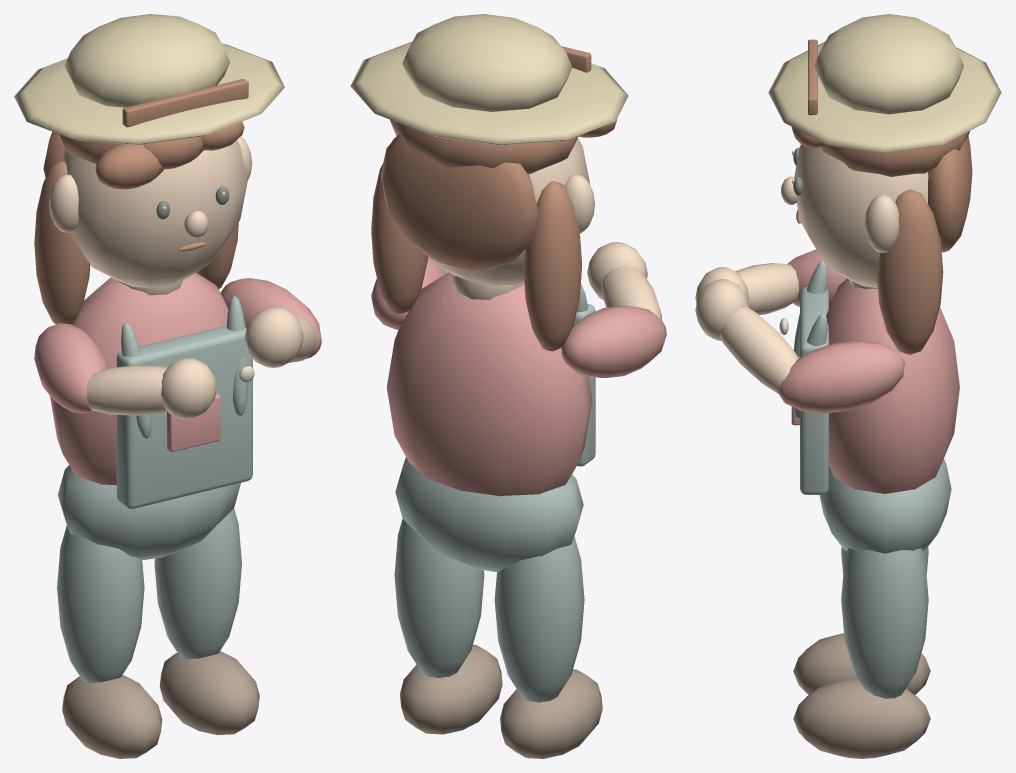
File: abbie-work.glb
3 renders of one model, left to right at view 1: azimuth 30°, elevation 25°; view 2: azimuth 150°, elevation 25°; view 3: azimuth 270°, elevation 25°, orthographic. The views are drawn at different scales.
Visible parts, largest first — view 1: Head.002, Overall bib.002, Padded shirt.002, Straw crown.002, Soft straw brim.002, Trouser leg.004, Soft trouser seat.002, Trouser leg.005, Rounded boot.005, Rounded boot.004, Long side lock.004, Shirt sleeve.004 (+17 smaller); view 2: Padded shirt.002, Hair back.002, Straw crown.002, Soft straw brim.002, Soft trouser seat.002, Trouser leg.004, Trouser leg.005, Long side lock.004, Rounded boot.004, Rounded boot.005, Shirt sleeve.004, Long side lock.005 (+8 smaller); view 3: Padded shirt.002, Straw crown.002, Trouser leg.005, Soft straw brim.002, Head.002, Long side lock.005, Rounded boot.005, Soft trouser seat.002, Shirt sleeve.005, Forearm.005, Overall bib.002, Hair back.002 (+10 smaller).
Part boxes in pixels (bbox=[...]): Head.002: bbox=[63, 140, 247, 288]; Overall bib.002: bbox=[116, 325, 252, 508]; Padded shirt.002: bbox=[50, 273, 228, 485]; Straw crown.002: bbox=[64, 14, 229, 107]; Soft straw brim.002: bbox=[14, 43, 284, 144]; Trouser leg.004: bbox=[57, 525, 144, 683]; Soft trouser seat.002: bbox=[58, 465, 240, 559]; Trouser leg.005: bbox=[154, 508, 241, 659]; Rounded boot.005: bbox=[159, 651, 259, 735]; Rounded boot.004: bbox=[62, 675, 162, 758]; Long side lock.004: bbox=[34, 161, 90, 324]; Shirt sleeve.004: bbox=[34, 323, 107, 413]; Padded shirt.002: bbox=[386, 272, 592, 496]; Hair back.002: bbox=[380, 134, 538, 270]; Straw crown.002: bbox=[402, 14, 572, 111]; Soft straw brim.002: bbox=[350, 42, 628, 145]; Soft trouser seat.002: bbox=[395, 457, 583, 571]; Trouser leg.004: bbox=[494, 536, 584, 702]; Trouser leg.005: bbox=[394, 518, 484, 677]; Long side lock.004: bbox=[523, 181, 581, 351]; Rounded boot.004: bbox=[500, 669, 602, 758]; Rounded boot.005: bbox=[400, 644, 502, 734]; Shirt sleeve.004: bbox=[561, 305, 666, 377]; Long side lock.005: bbox=[371, 164, 427, 314]; Padded shirt.002: bbox=[826, 278, 959, 493]; Straw crown.002: bbox=[814, 14, 963, 114]; Trouser leg.005: bbox=[841, 548, 928, 698]; Soft straw brim.002: bbox=[768, 41, 1001, 152]; Head.002: bbox=[794, 144, 928, 287]; Long side lock.005: bbox=[876, 189, 943, 355]; Rounded boot.005: bbox=[793, 679, 930, 758]; Soft trouser seat.002: bbox=[819, 459, 951, 553]; Shirt sleeve.005: bbox=[777, 340, 904, 413]; Forearm.005: bbox=[719, 306, 798, 393]; Overall bib.002: bbox=[800, 287, 828, 494]; Hair back.002: bbox=[928, 136, 972, 252].
Bounding box in the file's own units: 0.6398 × 1.64 × 0.6468.
